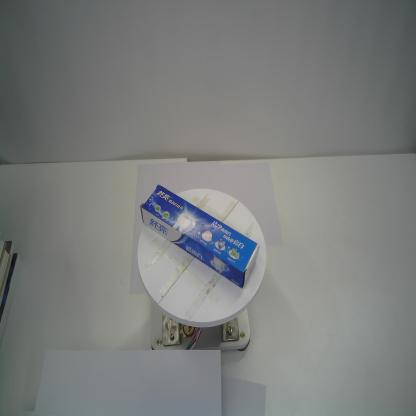Personal Hygiene: (138, 184, 260, 291)
